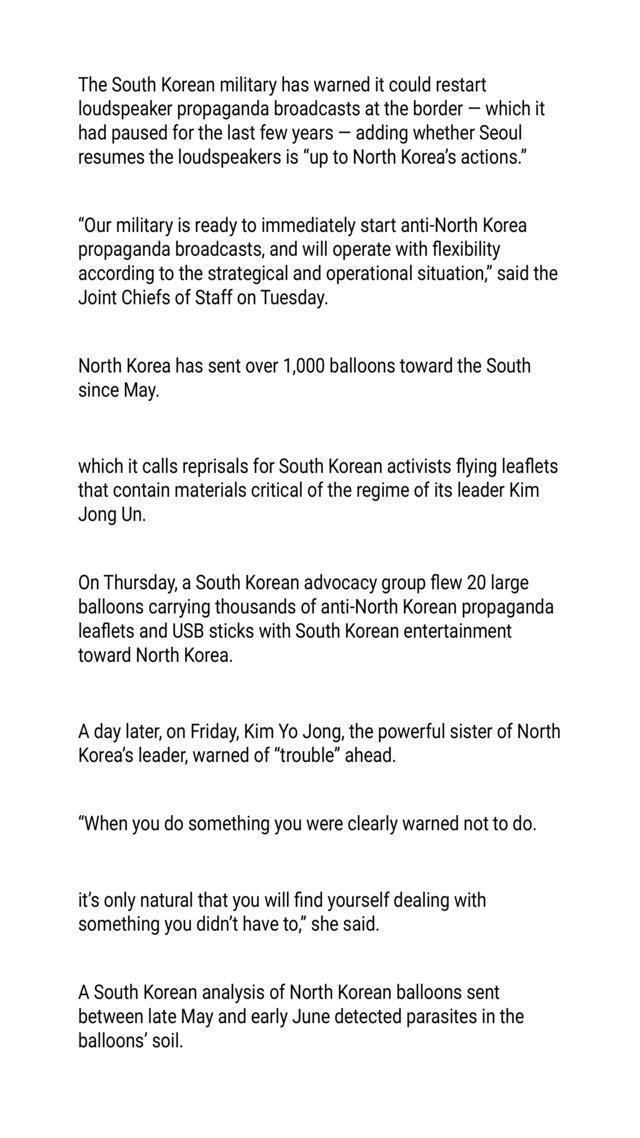Text: (75, 210, 532, 238), (73, 720, 572, 745), (72, 453, 562, 478), (76, 812, 532, 838), (73, 97, 551, 121), (74, 262, 563, 284), (76, 618, 522, 642), (72, 353, 534, 376), (75, 147, 529, 170), (74, 979, 508, 1003), (74, 480, 547, 502), (76, 570, 545, 592), (75, 596, 561, 617), (73, 124, 534, 146), (72, 888, 493, 912), (74, 1007, 528, 1029), (74, 238, 504, 261), (74, 72, 494, 95), (74, 913, 384, 937), (74, 746, 400, 768), (73, 287, 334, 310), (78, 646, 240, 666), (72, 1030, 188, 1054), (74, 378, 166, 404), (74, 504, 152, 526)
